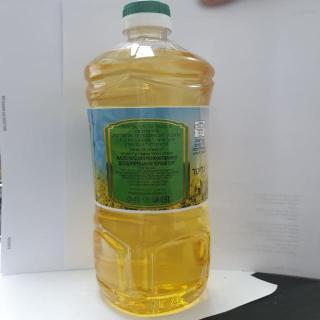Plastic-bottle: (82, 1, 222, 319)
